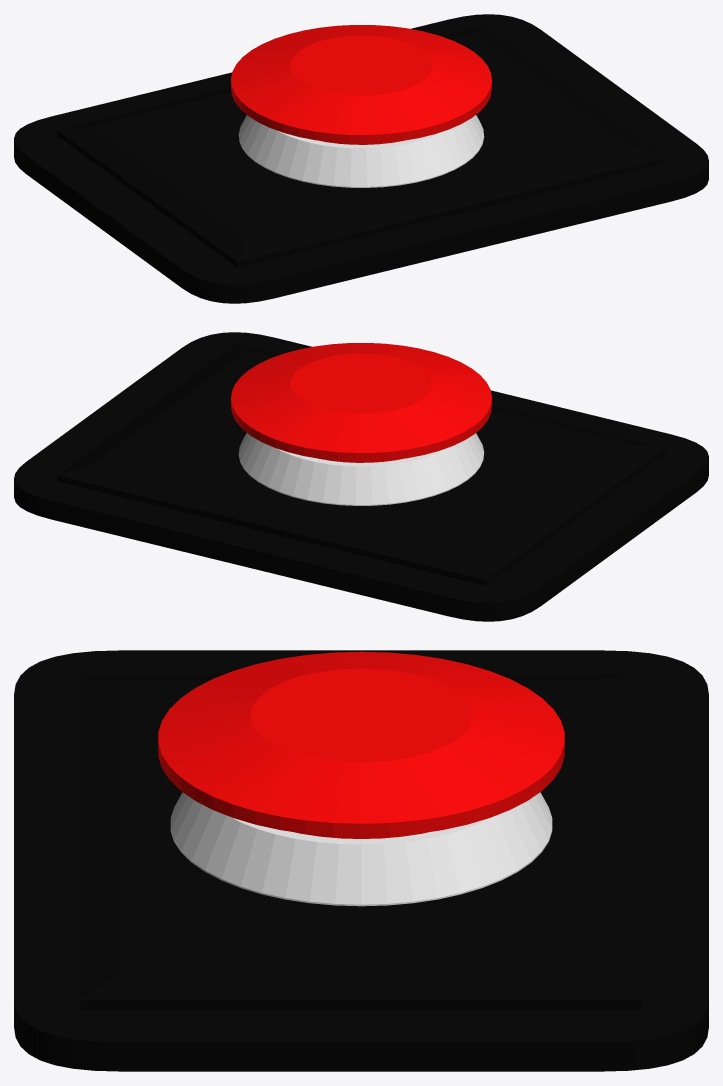
Rendered from Roter Knopf.fbx.
3 views of the same model, one above another, from view 1: azimuth 30°, elevation 25°; view 2: azimuth 150°, elevation 25°; view 3: azimuth 270°, elevation 25° (orthographic). The views are drawn at different scales.
Visible parts, largest first — view 1: Box006, Box005, Knopf, Cylinder004; view 2: Box006, Box005, Knopf, Cylinder004; view 3: Box006, Box005, Knopf, Cylinder004.
Part boxes in pixels (<box>): Box006: <box>57,25,665,267</box>; Box005: <box>14,14,708,303</box>; Knopf: <box>231,25,491,144</box>; Cylinder004: <box>238,115,484,187</box>; Box006: <box>57,343,665,585</box>; Box005: <box>14,332,708,621</box>; Knopf: <box>231,343,491,462</box>; Cylinder004: <box>238,433,484,505</box>; Box006: <box>80,674,642,1009</box>; Box005: <box>14,650,708,1071</box>; Knopf: <box>158,651,564,838</box>; Cylinder004: <box>170,792,552,906</box>.
Bounding box in the file's own units: 40 × 7.63 × 30.
